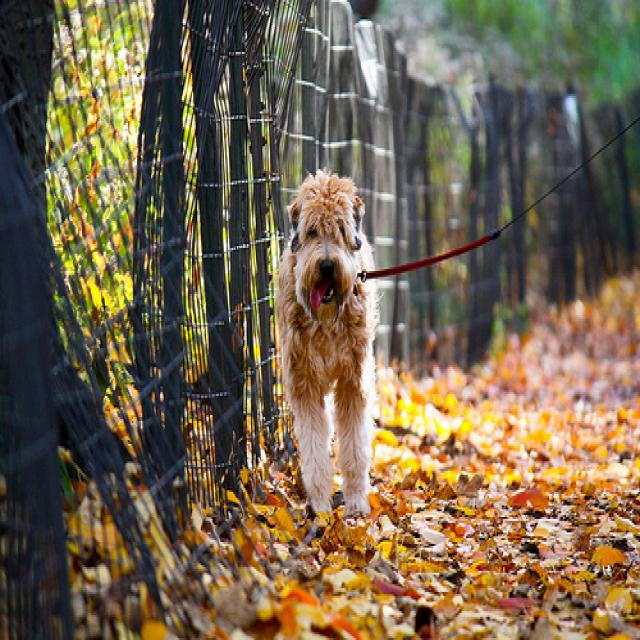dog-wheaten_terrier: (274, 163, 384, 527)
